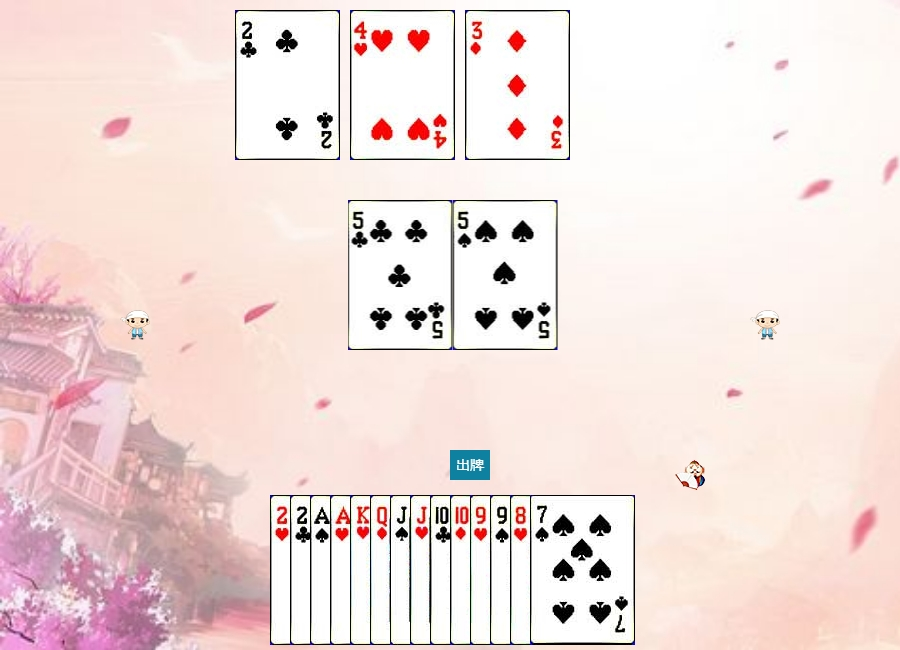10~1: (450, 495, 555, 645)
10~2: (430, 495, 535, 645)
11~3: (410, 495, 515, 645)
11~4: (390, 495, 495, 645)
12~1: (370, 495, 475, 645)
13~3: (350, 495, 455, 645)
14~3: (330, 495, 435, 645)
14~4: (310, 495, 415, 645)
15~2: (235, 10, 340, 160), (290, 495, 395, 645)
15~3: (270, 495, 375, 645)
3~1: (465, 10, 570, 160)
4~3: (350, 10, 455, 160)
5~2: (348, 200, 453, 350)
5~4: (453, 200, 558, 350)
7~4: (530, 495, 635, 645)
8~3: (510, 495, 615, 645)
9~3: (470, 495, 575, 645)
9~4: (490, 495, 595, 645)
